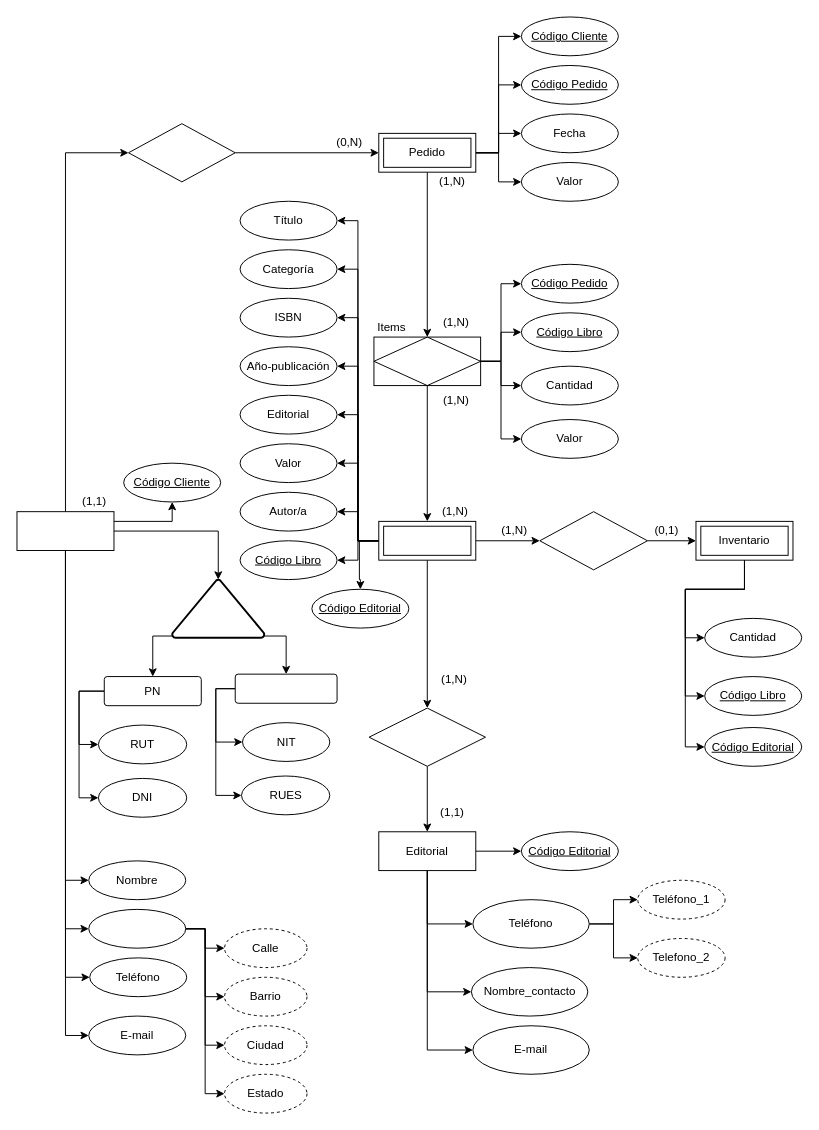
The diagram is 819 pixels wide and 1130 high, and some of its shapes have lost their labels. The shapes that lost their labels are listed below. From the top down, each one's centre as x and y in pixels, then its label:
the point at 181,152: Realizar
the point at 427,361: Contiene
the point at 65,530: Cliente
the point at 427,540: Libros
the point at 593,540: Existe
the point at 218,608: ID
the point at 285,688: PJ
the point at 426,736: Pertenece
the point at 137,928: Dirección
